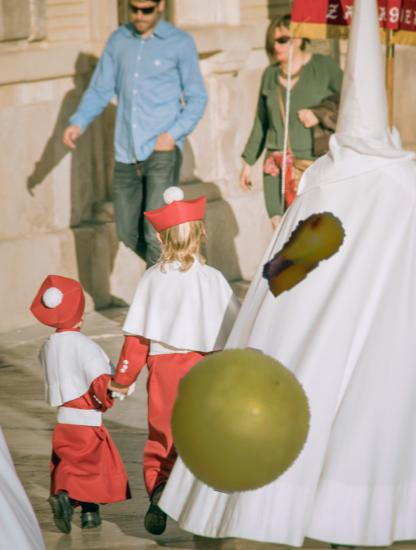Banana: (251, 200, 353, 302)
Grape: (167, 347, 315, 495)
